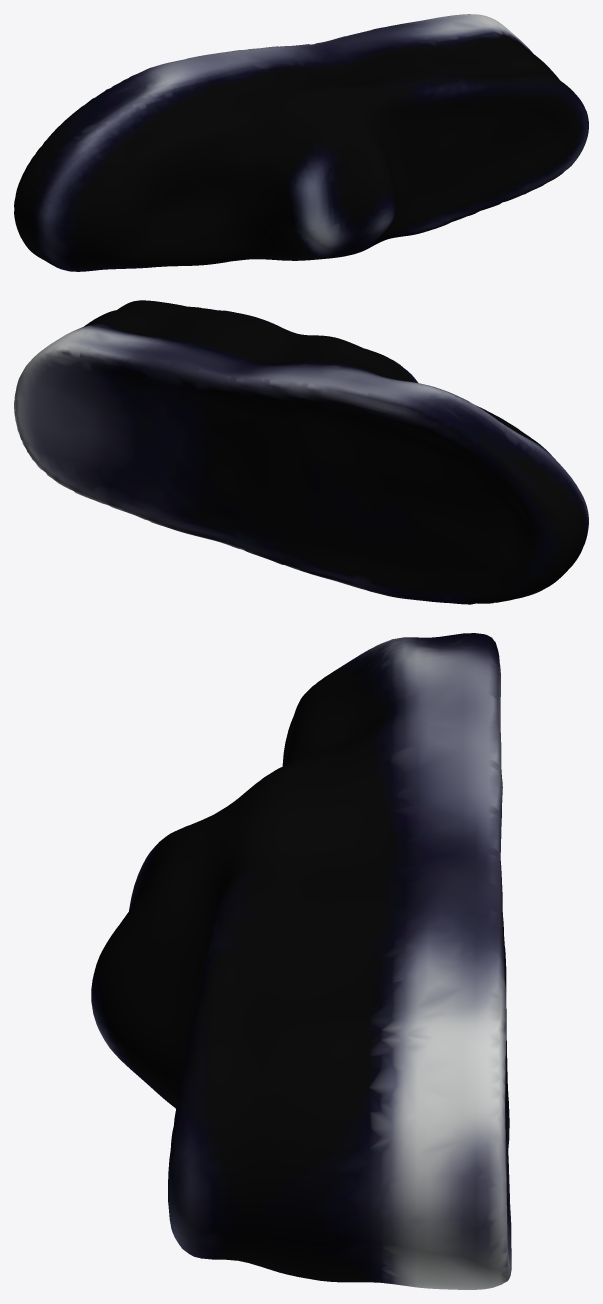
File: shoe.glb
The picture shows the model from 3 angles, top to bottom: view 1: azimuth 30°, elevation 25°; view 2: azimuth 150°, elevation 25°; view 3: azimuth 270°, elevation 25°; orthographic projection. The views are drawn at different scales.
Size of the model in its own units: 0.9998 by 0.3506 by 0.3526.
